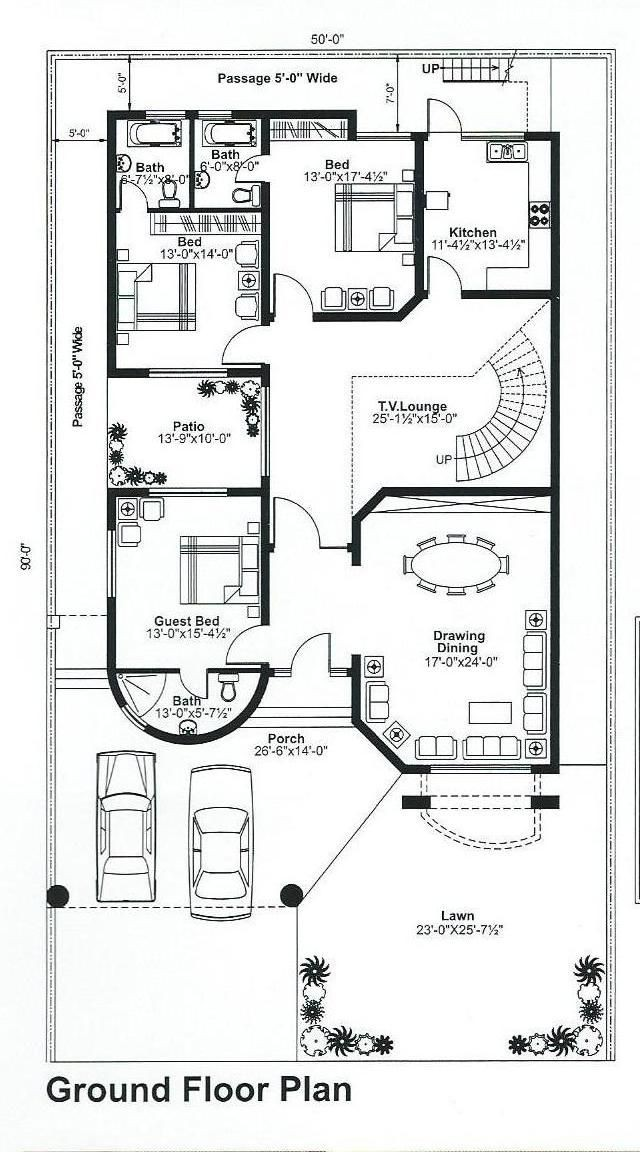door: (268, 469, 348, 560), (208, 604, 273, 671), (273, 265, 319, 333), (412, 81, 467, 136), (292, 610, 335, 679), (112, 153, 155, 215), (219, 137, 262, 198), (425, 239, 467, 301)
room: (353, 483, 562, 781), (272, 317, 573, 506), (258, 111, 422, 333), (112, 490, 285, 675), (107, 209, 274, 375), (418, 127, 566, 314), (108, 370, 273, 499), (269, 487, 361, 687), (116, 667, 276, 749), (105, 111, 189, 212), (190, 114, 266, 210)
wall: (356, 473, 562, 519), (537, 473, 568, 776), (546, 129, 568, 500), (98, 111, 128, 382), (312, 297, 437, 342), (344, 717, 430, 776), (405, 123, 428, 325), (458, 270, 563, 310), (145, 715, 255, 751), (252, 187, 280, 327), (228, 101, 358, 126), (100, 598, 130, 706), (255, 479, 276, 629), (150, 199, 274, 222), (183, 104, 207, 211), (347, 503, 374, 577), (347, 658, 372, 736), (247, 659, 274, 727), (103, 660, 179, 684), (248, 103, 280, 156), (98, 358, 152, 389), (206, 661, 278, 684), (222, 359, 276, 387), (102, 476, 145, 506), (226, 362, 274, 386), (100, 479, 120, 534)
window: (142, 471, 230, 510), (430, 751, 542, 781), (153, 350, 231, 393), (98, 525, 136, 601), (351, 109, 417, 151), (462, 122, 533, 153), (109, 695, 157, 738), (195, 94, 240, 129), (142, 103, 184, 127), (329, 655, 358, 687), (272, 653, 292, 684)
